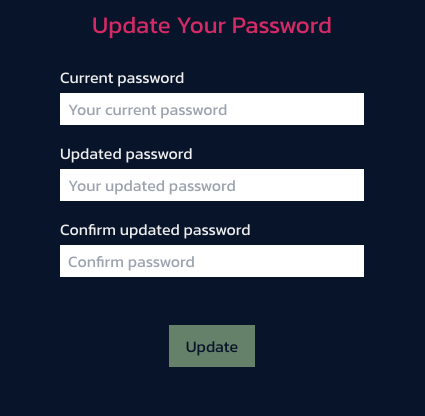
Test case: Update password form tests: › Submission tests: › General submission tests: › It should show a warning that the user will be logged out when the update button is active
Type "password12£" into the field titled "current password". click: (212, 109)
box: [60,93,364,125]
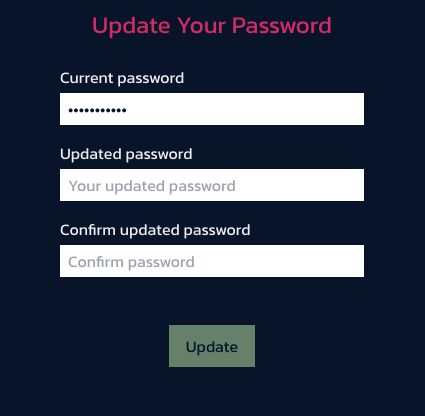
Type "password12£" into the field titled "updated password". click: (212, 185)
box: [60,169,364,201]
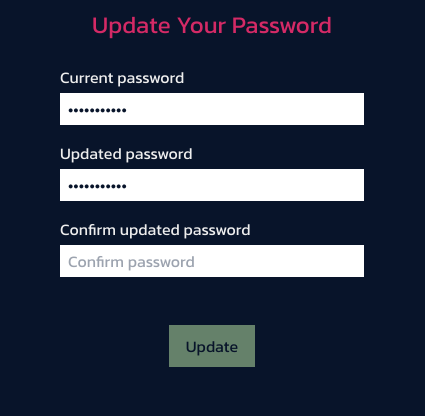
Type "password12£" into the field titled "confirm updated password". click: (212, 261)
box: [60,245,364,277]
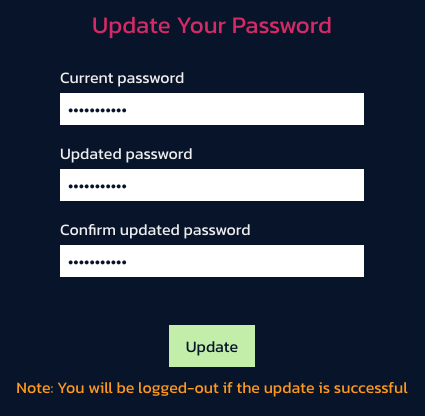
Now the text "Note: You will be logged-out if the update is successful" is shown, box [16,375,408,399]
